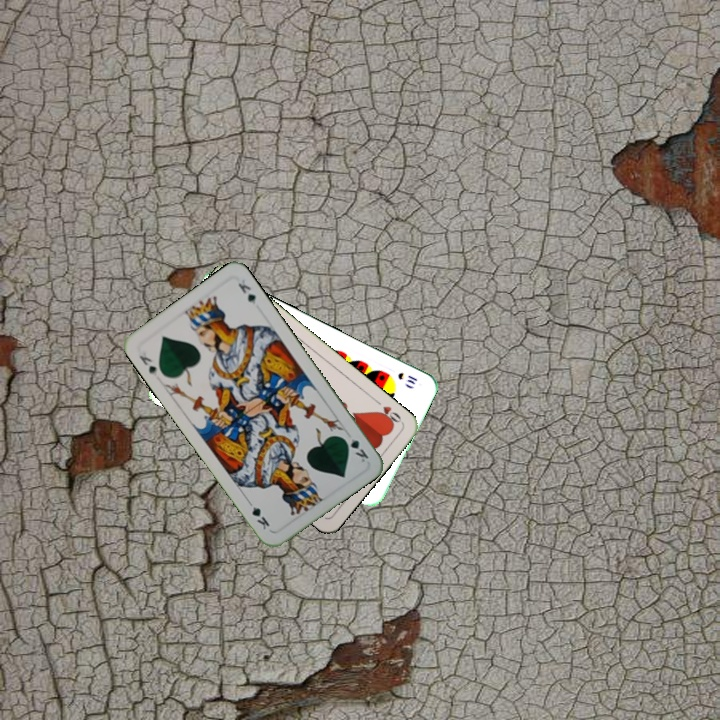GK: (338, 433, 371, 465), (135, 351, 160, 379)
HO: (371, 395, 405, 428)
S10: (393, 368, 420, 387)
